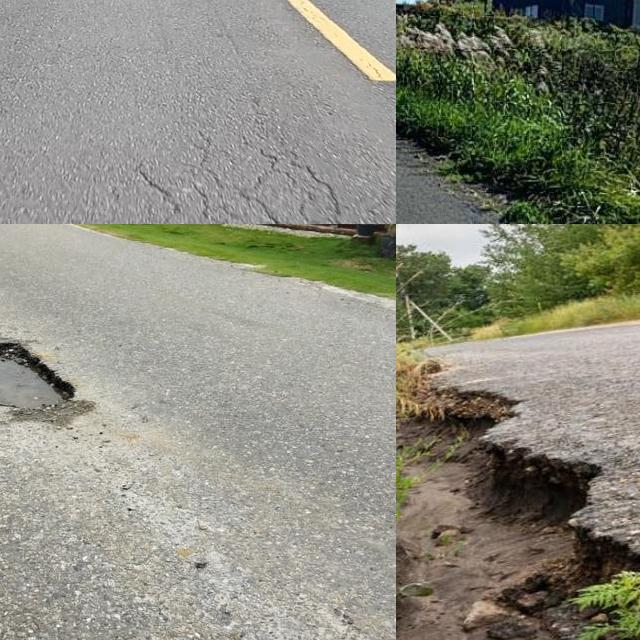Lubang: (0, 346, 65, 413)
Pinggir: (407, 376, 640, 640)
